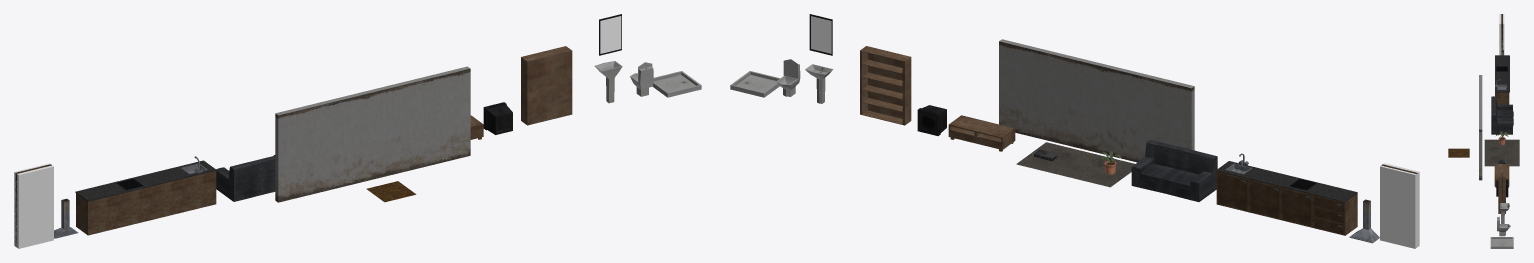
The model's file is PSX-ApartmentPack.glb.
3 views of the same model, side by side, from view 1: azimuth 30°, elevation 25°; view 2: azimuth 150°, elevation 25°; view 3: azimuth 270°, elevation 25° (orthographic). The views are drawn at different scales.
Visible parts, largest first — view 1: Wall, Bookshelf, DoorHole, Couch, KitchenCabinetWithDrawers, KitchenCabinet, KitchenCabinetWithSink, KitchenCabinetWithCooktop, ShowerFloor, Mirror, TV, Floor (+3 smaller); view 2: Wall, Couch, Bookshelf, DoorHole, Rug, Table, KitchenCabinetWithDrawers, KitchenCabinetDrawers, KitchenCabinetDoor.002, KitchenCabinetDoor, KitchenCabinetDoor.001, Mirror (+8 smaller); view 3: Rug, Couch, Wall, Bookshelf, ShowerFloor, KitchenCabinetWithSink, Floor, DoorHole, Table, WC, KitchenCabinet, KitchenCabinetWithDrawers (+8 smaller).
Boxes of the visible parts, x1,y1,x2,y2 form: Wall: (275, 66, 470, 202); Bookshelf: (521, 46, 572, 125); DoorHole: (14, 163, 53, 248); Couch: (216, 155, 275, 201); KitchenCabinetWithDrawers: (75, 184, 119, 235); KitchenCabinet: (140, 168, 184, 219); KitchenCabinetWithSink: (172, 160, 216, 211); KitchenCabinetWithCooktop: (108, 176, 152, 227); ShowerFloor: (653, 71, 701, 97); Mirror: (599, 14, 621, 55); TV: (483, 102, 512, 134); Floor: (366, 181, 416, 202); Wall: (999, 39, 1194, 162); Couch: (1131, 140, 1217, 201); Bookshelf: (860, 46, 911, 125); DoorHole: (1380, 163, 1419, 248); Rug: (1016, 142, 1134, 187); Table: (948, 115, 1015, 151); KitchenCabinetWithDrawers: (1312, 184, 1357, 235); KitchenCabinetDrawers: (1314, 196, 1343, 234); KitchenCabinetDoor.002: (1282, 188, 1311, 225); KitchenCabinetDoor: (1250, 180, 1279, 217); KitchenCabinetDoor.001: (1218, 173, 1247, 210); Mirror: (809, 14, 832, 55); Rug: (1484, 139, 1519, 166); Couch: (1491, 96, 1513, 134); Wall: (1479, 75, 1482, 180); Bookshelf: (1498, 164, 1505, 213); ShowerFloor: (1490, 237, 1513, 248); KitchenCabinetWithSink: (1495, 82, 1509, 104); Floor: (1448, 148, 1469, 157); DoorHole: (1499, 14, 1504, 55); Table: (1494, 164, 1509, 187); WC: (1497, 216, 1510, 236); KitchenCabinet: (1495, 73, 1509, 82); KitchenCabinetWithDrawers: (1495, 55, 1509, 64).
Size of the model in its own units: 21.08 by 2.62 by 3.32.
21 materials, 20 textured.
